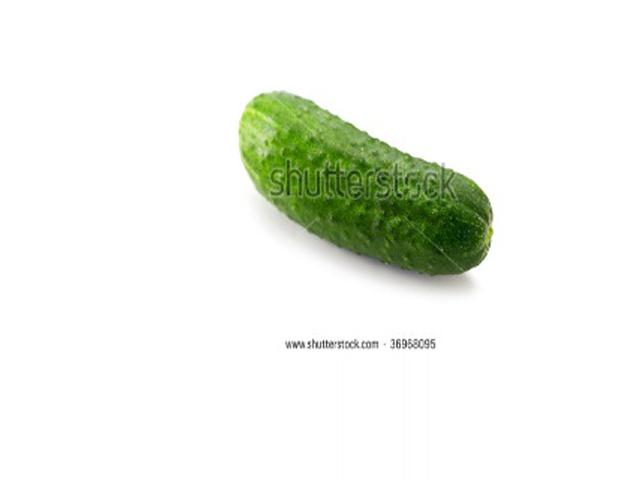cucumber: (239, 90, 492, 276)
